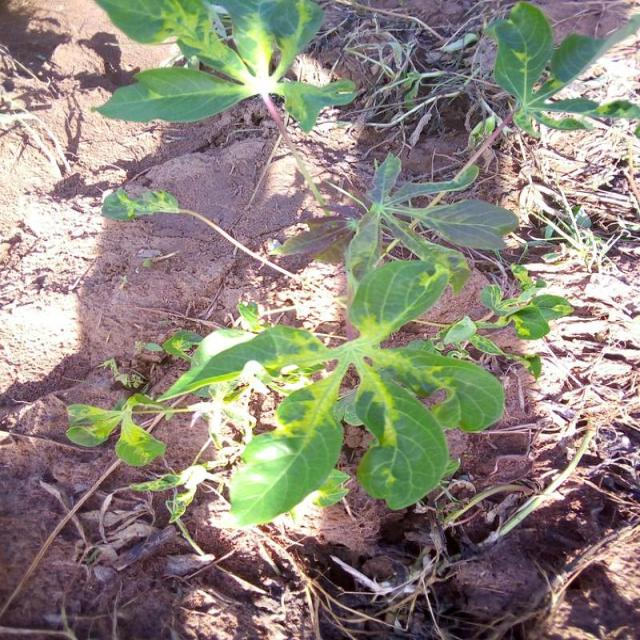cassava leaf: (227, 382, 344, 527), (353, 368, 452, 511), (347, 256, 449, 343)
